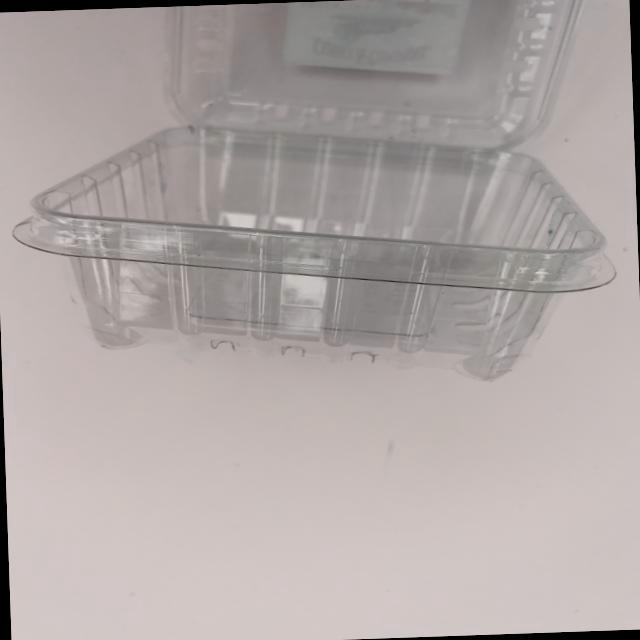plastic: (14, 0, 630, 400)
